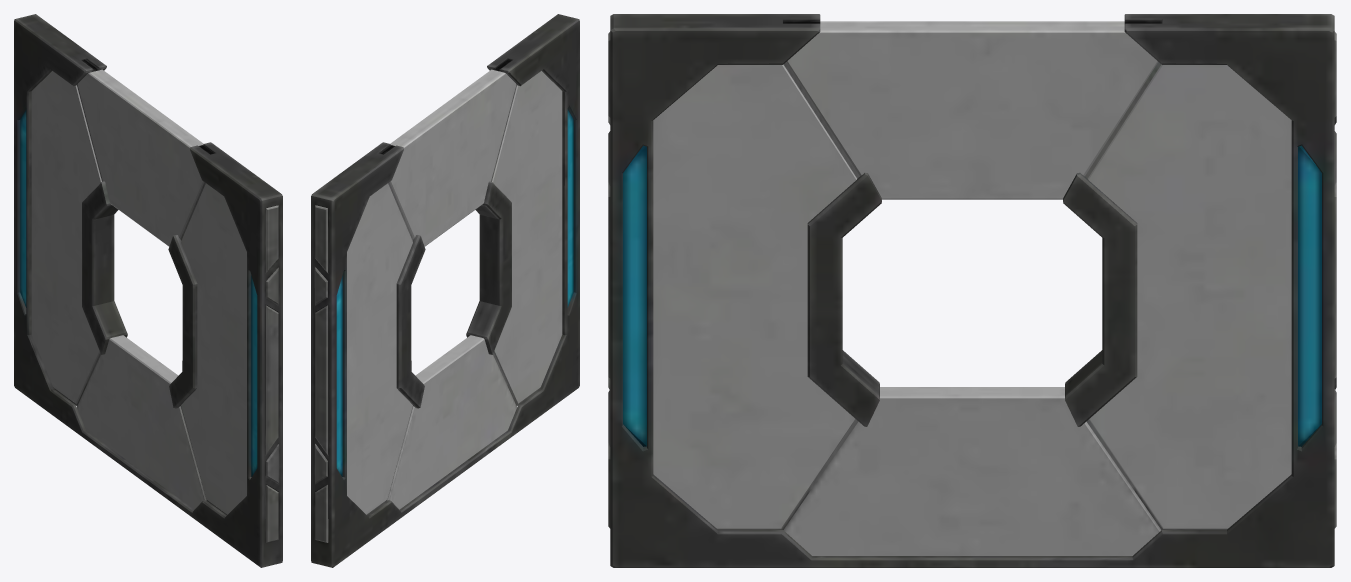
File: SM_WallWindow_Ancient_9b6e0f.glb
3 views of the same model, side by side, from view 1: azimuth 30°, elevation 25°; view 2: azimuth 150°, elevation 25°; view 3: azimuth 270°, elevation 25° (orthographic). The views are drawn at different scales.
Size of the model in its own units: 0.2107 by 3.29 by 4.02.
Materials: 1 (1 with a texture image).
